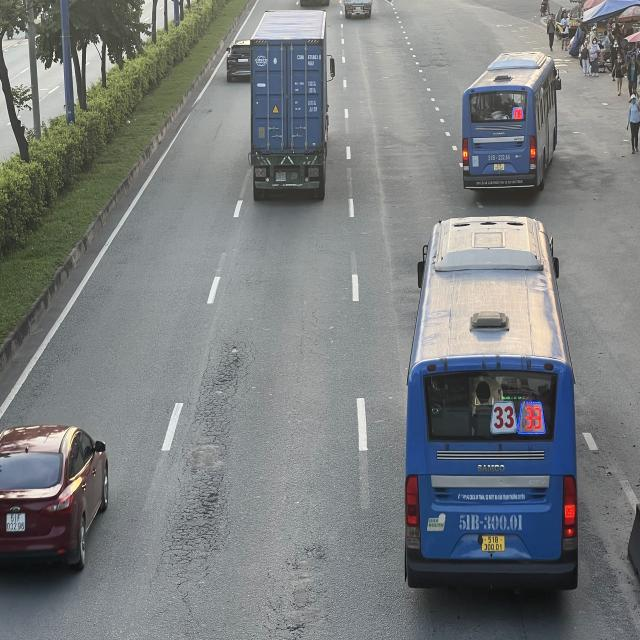car: (1, 422, 110, 574), (225, 40, 251, 83)
coach: (402, 217, 576, 592), (462, 50, 562, 190)
container: (251, 7, 335, 199)
